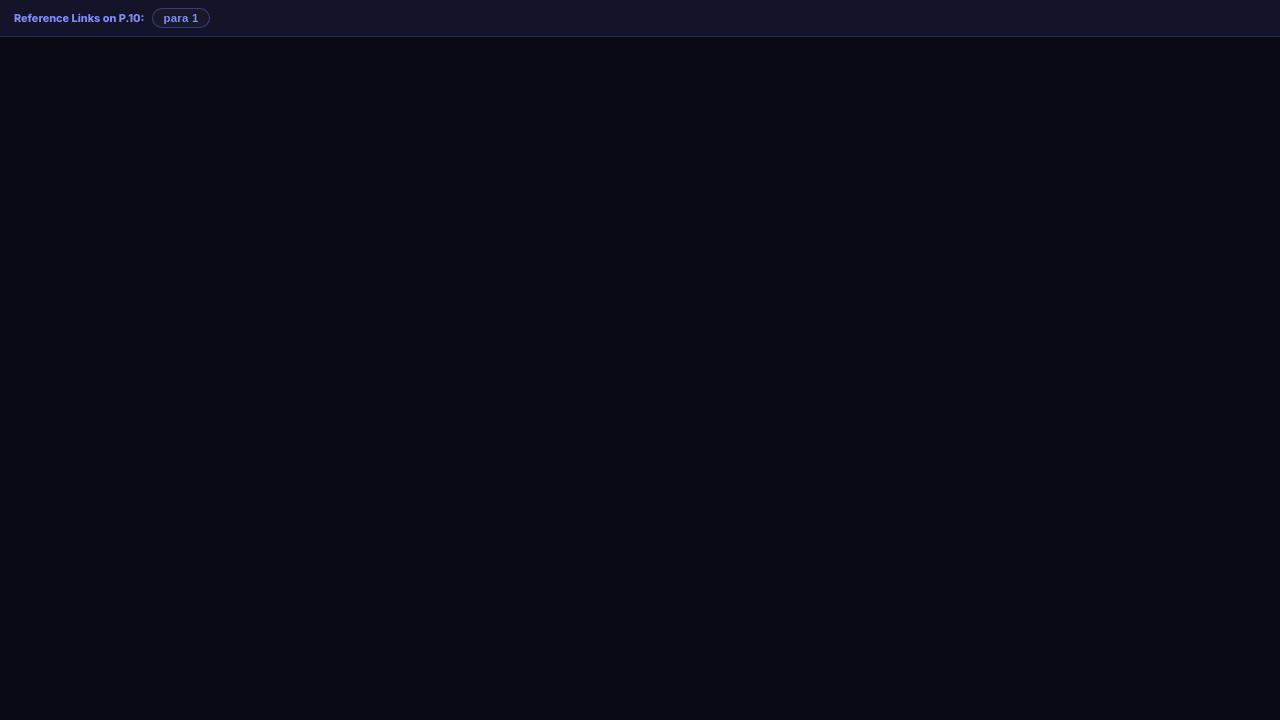
Test case: PageReferenceBadges › navigating to a different currentPage while the picker modal is open closes it
The width and height of the screenshot is (1280, 720).
Click the button with test id "page-reference-badge-point:1".
click(181, 18)  # box [152,8,210,28]
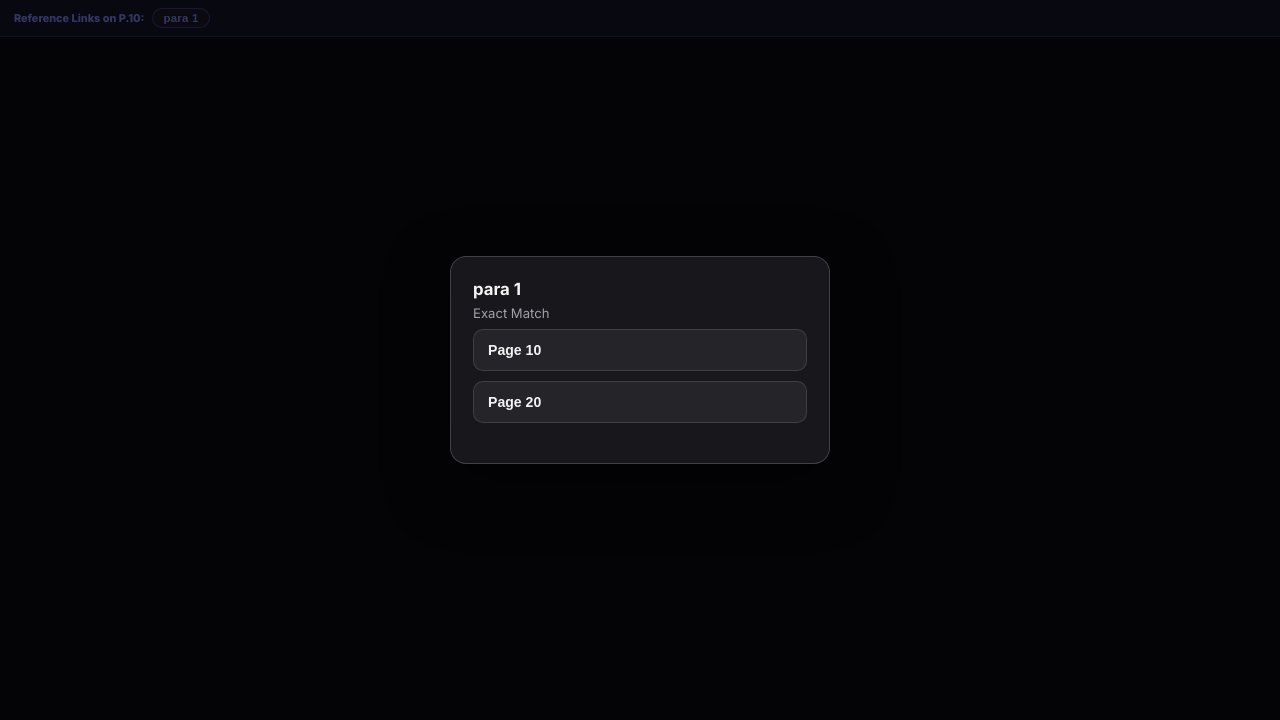
Now the element with test id "page-reference-candidates-modal" is shown, box [450,256,830,464]
